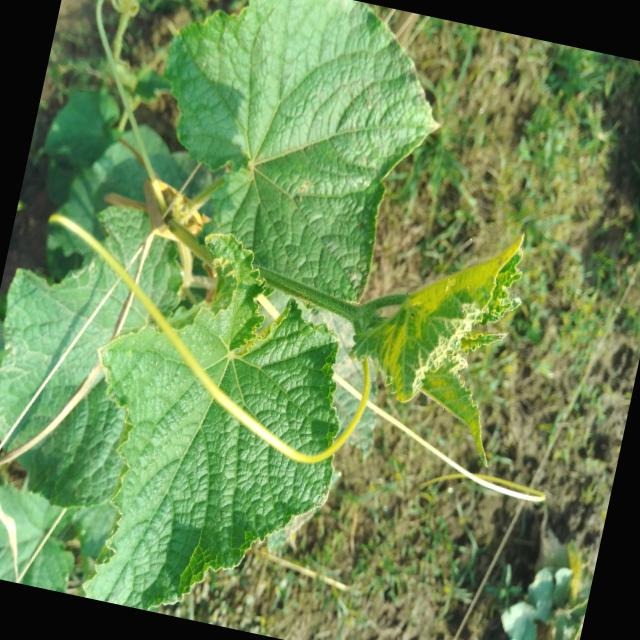cucumber_healthy: (41, 213, 378, 640), (119, 0, 465, 317), (0, 179, 205, 529), (315, 194, 559, 477), (0, 471, 86, 593)
